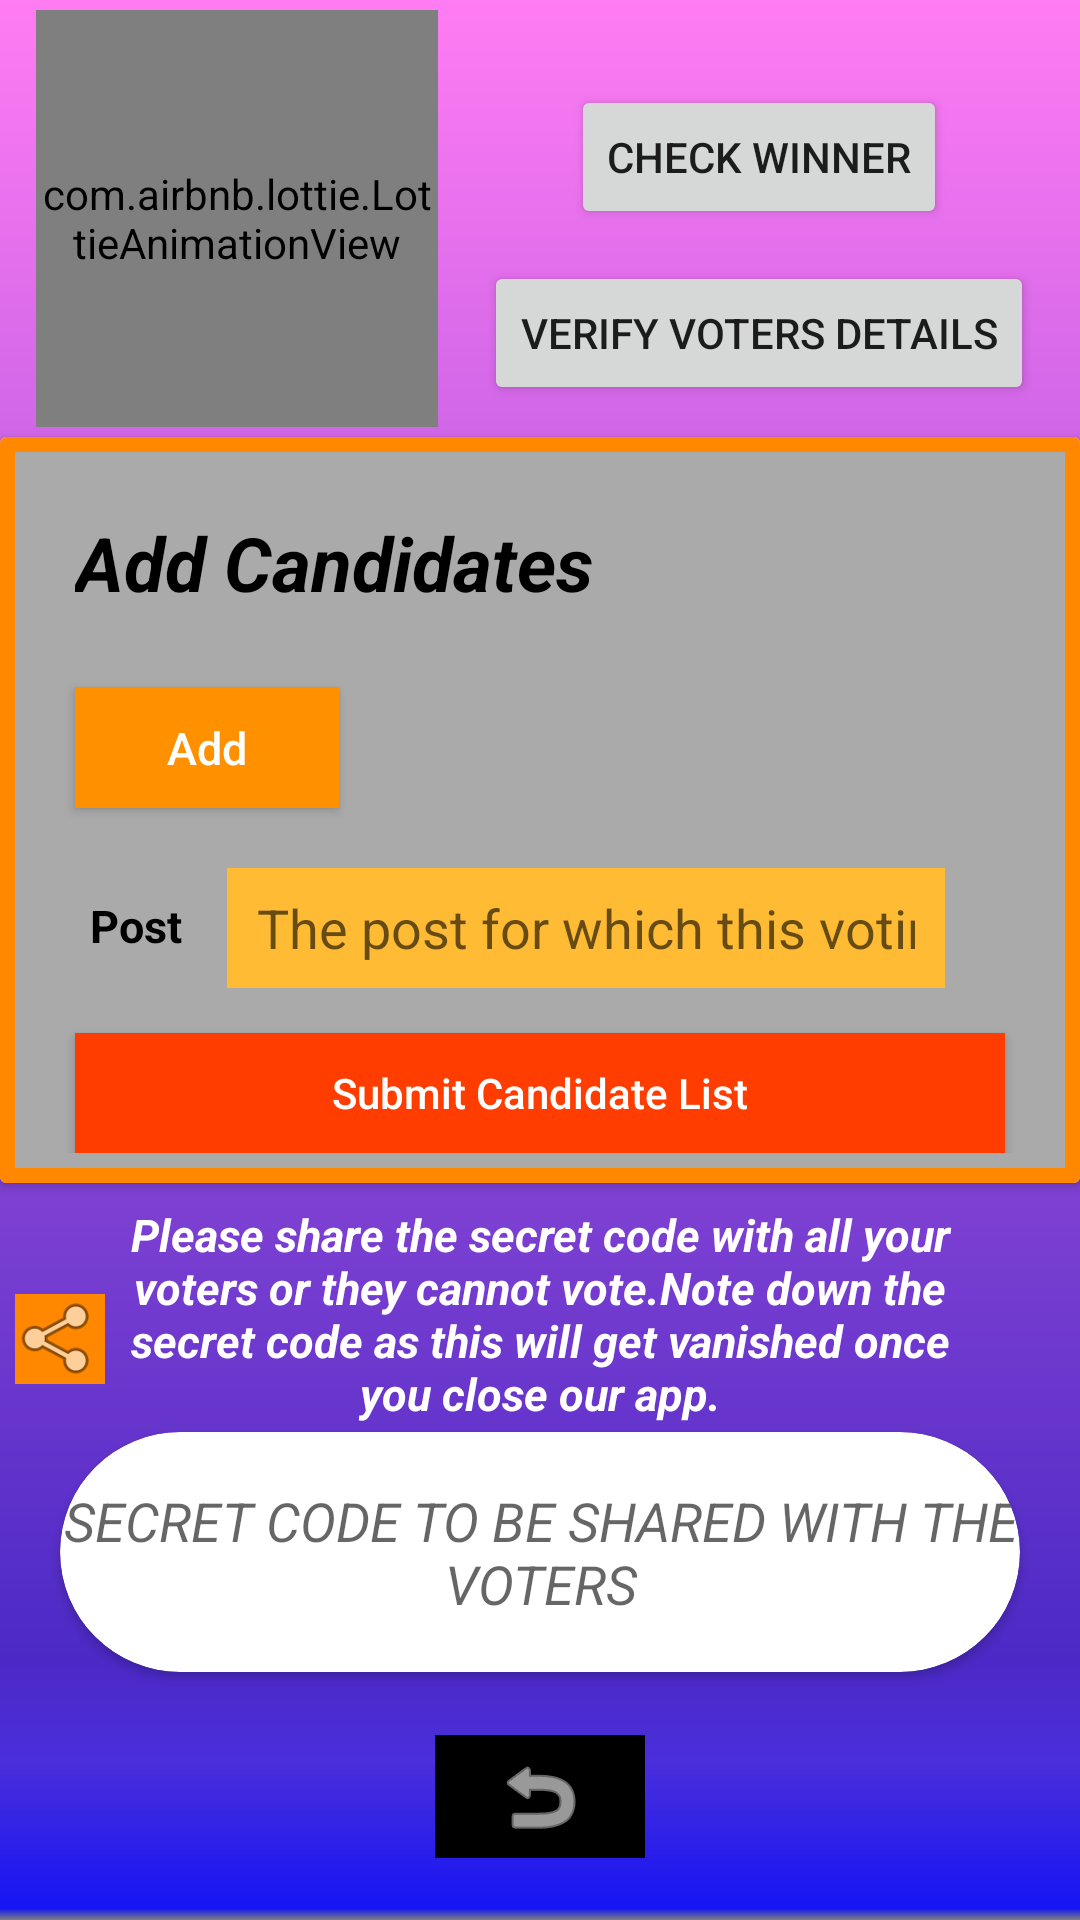

Icon click points for this 1080px×1920px phone screenshot, format (x,y):
back: (540,1796)
